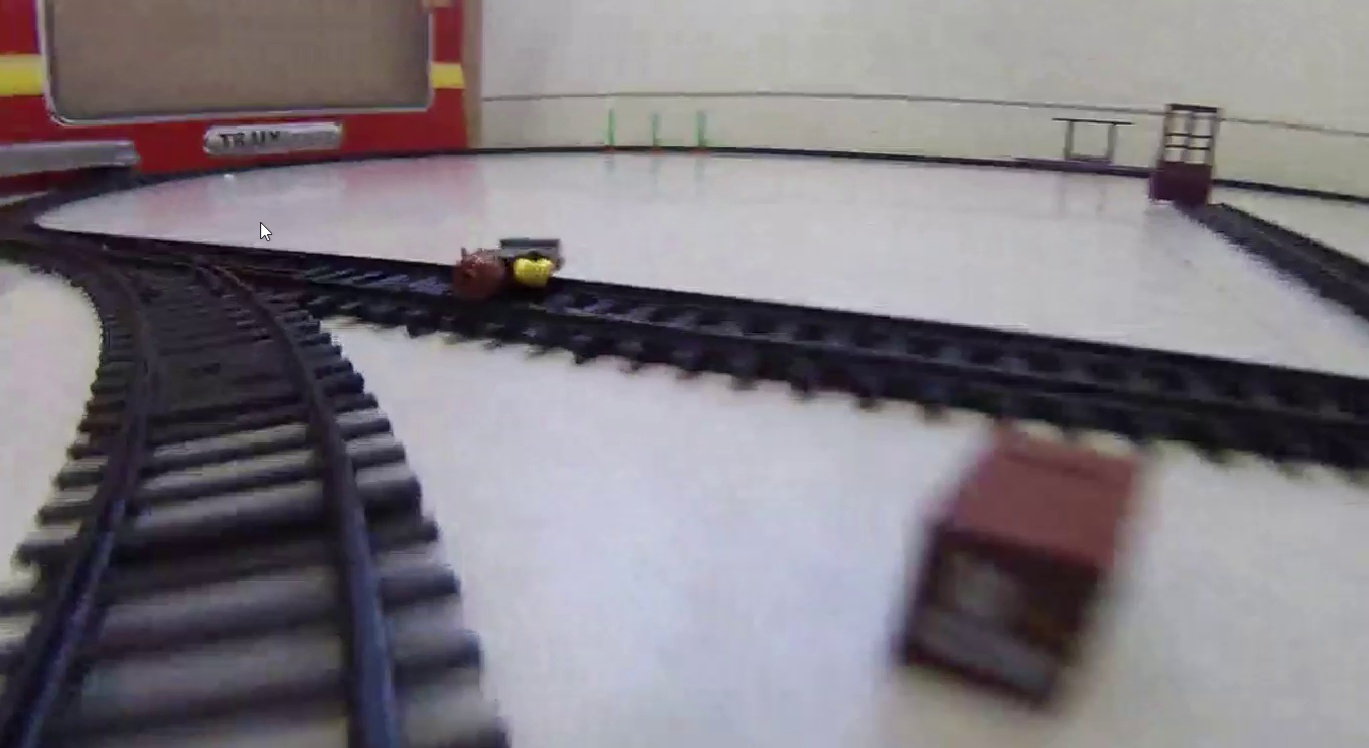box: (905, 427, 1144, 703)
people: (451, 237, 563, 302)
